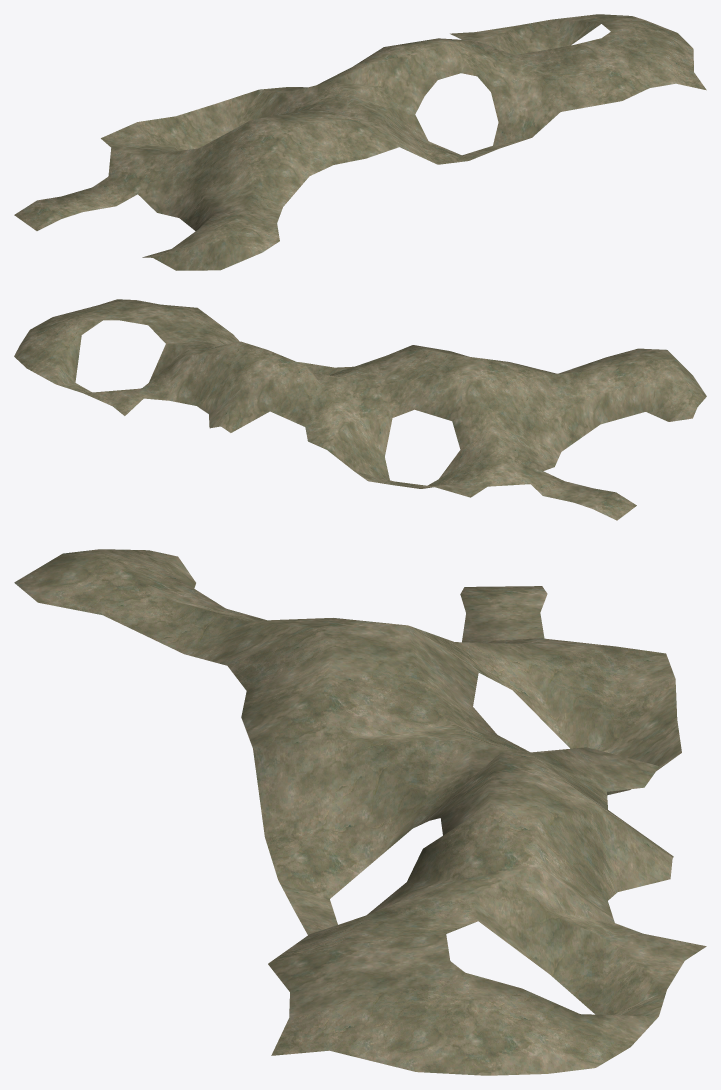
File: EKH_GROTTO_PS_GR_OBJECT61.fbx
The picture shows the model from 3 angles, top to bottom: view 1: azimuth 30°, elevation 25°; view 2: azimuth 150°, elevation 25°; view 3: azimuth 270°, elevation 25°; orthographic projection. The views are drawn at different scales.
Visible parts, largest first — view 1: EKH_GROTTO_PS_GR_OBJECT61; view 2: EKH_GROTTO_PS_GR_OBJECT61; view 3: EKH_GROTTO_PS_GR_OBJECT61.
Part boxes in pixels (box(x1,y1,x2,y2)): EKH_GROTTO_PS_GR_OBJECT61: box(14, 14, 706, 270); EKH_GROTTO_PS_GR_OBJECT61: box(14, 299, 706, 520); EKH_GROTTO_PS_GR_OBJECT61: box(14, 549, 706, 1075).
Bounding box in the file's own units: 260891 × 34502 × 138406.
1 material, 1 textured.
